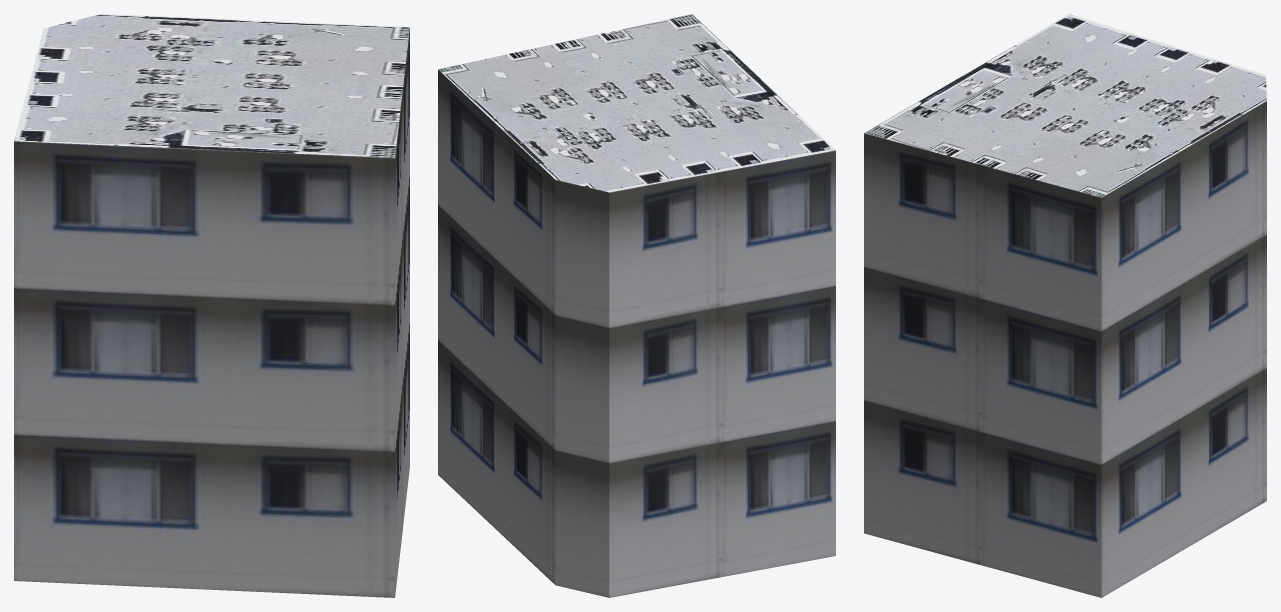
File: ResTex__2090.fbx
3 renders of one model, left to right at view 1: azimuth 30°, elevation 25°; view 2: azimuth 150°, elevation 25°; view 3: azimuth 270°, elevation 25°, orthographic. The views are drawn at different scales.
Parts seen in each view (by area): view 1: CityEngineMaterial_9_m, CityEngineMaterial_4_m; view 2: CityEngineMaterial_9_m, CityEngineMaterial_4_m; view 3: CityEngineMaterial_9_m, CityEngineMaterial_4_m.
Boxes of the visible parts, x1=… form: CityEngineMaterial_9_m: x1=14, y1=28, x2=409, y2=597; CityEngineMaterial_4_m: x1=14, y1=14, x2=409, y2=158; CityEngineMaterial_9_m: x1=438, y1=69, x2=835, y2=597; CityEngineMaterial_4_m: x1=438, y1=14, x2=835, y2=192; CityEngineMaterial_9_m: x1=864, y1=101, x2=1266, y2=597; CityEngineMaterial_4_m: x1=864, y1=14, x2=1266, y2=197.
Size of the model in its own units: 8.86 by 9 by 8.21.
2 materials, 2 textured.
